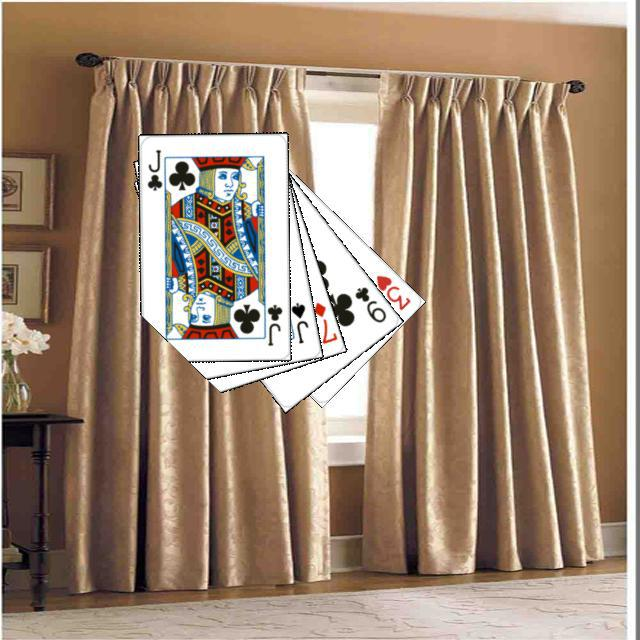3h: (371, 270, 412, 312)
7d: (308, 297, 338, 346)
9c: (350, 282, 388, 325)
Jc: (262, 300, 284, 347), (142, 145, 164, 192)
Js: (286, 298, 310, 345)
